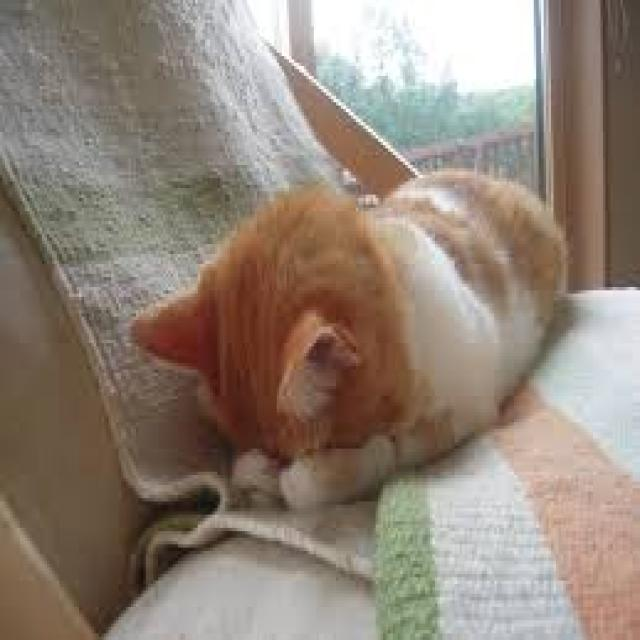cat: (120, 147, 592, 515)
